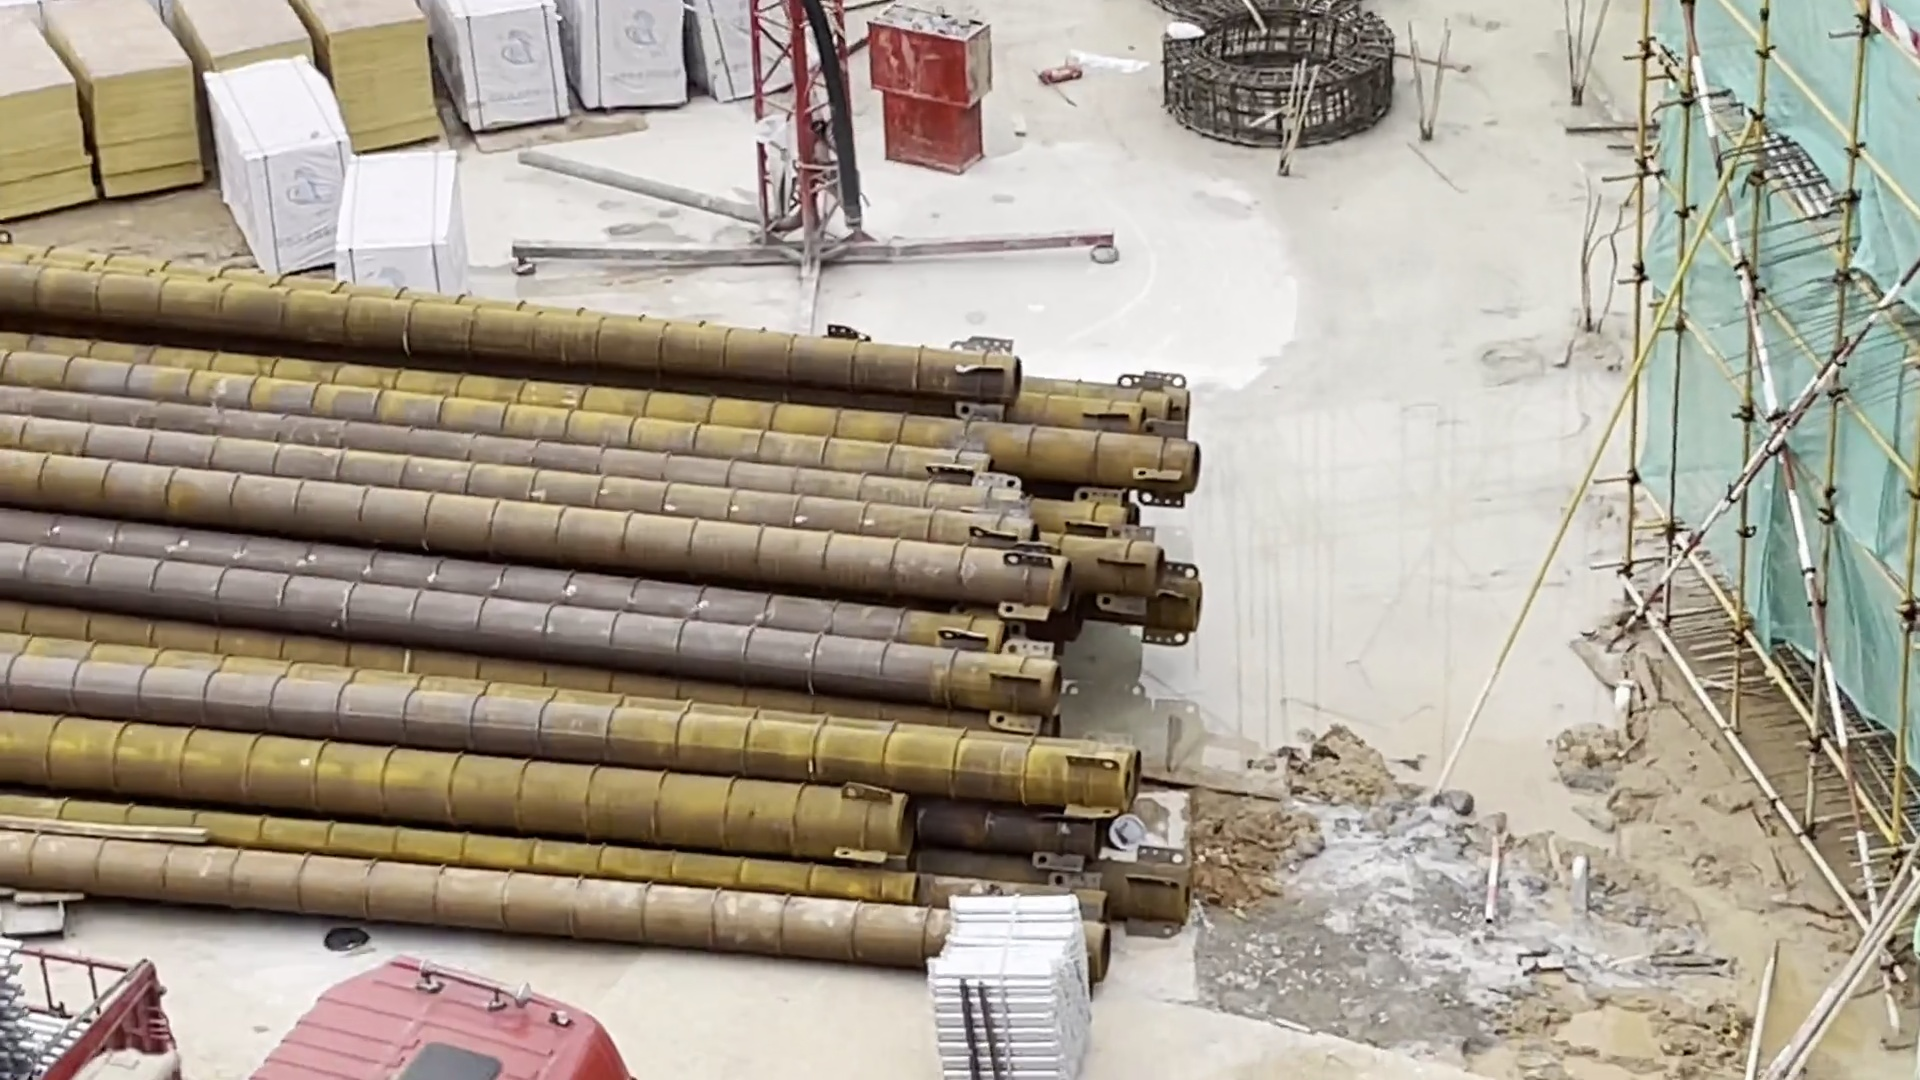board: (1, 4, 488, 218)
scaffold: (918, 882, 1135, 1080), (1, 920, 108, 1080)
